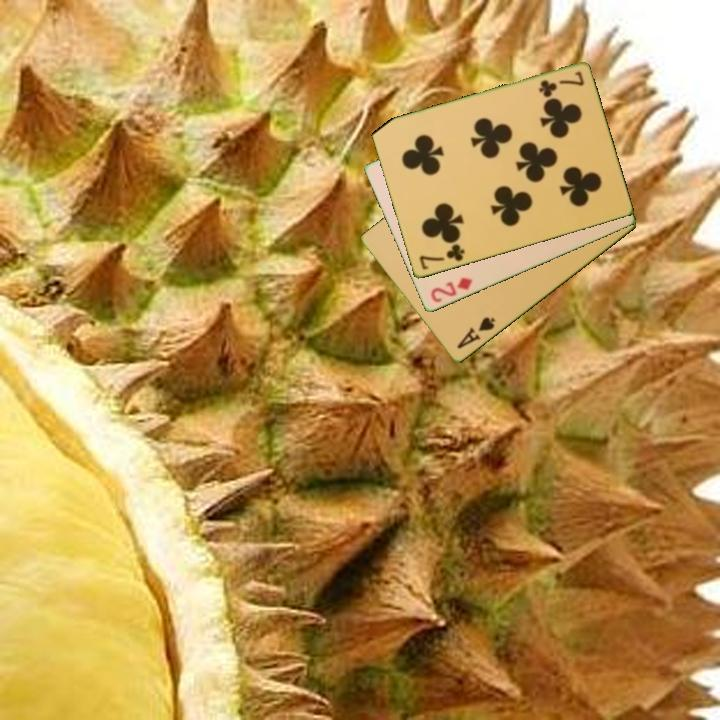2d: (427, 274, 475, 306)
7c: (415, 241, 468, 273), (535, 68, 587, 100)
As: (453, 313, 498, 352)
